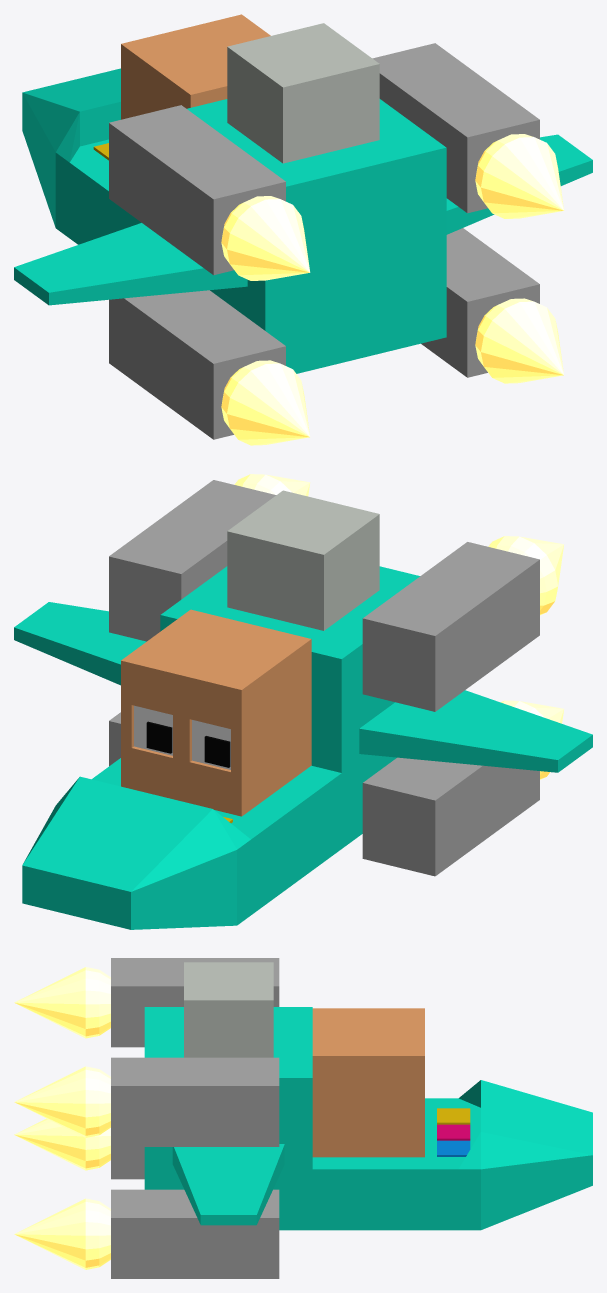
File: ship.glb
The picture shows the model from 3 angles, top to bottom: view 1: azimuth 30°, elevation 25°; view 2: azimuth 150°, elevation 25°; view 3: azimuth 270°, elevation 25°; orthographic projection. The views are drawn at different scales.
Visible parts, largest first — view 1: Cube, Cube.008, Cube.004, Cube.007, engine, engine.002, hero-head, Cube.006, ship-glow.002, ship-glow.001, ship-glow, ship.glow (+4 smaller); view 2: hero-head, Cube.008, Cube.004, Cube.003, Cube.007, Cube, engine, engine.002, ship, Cube.009, engine.001, ship.glow (+6 smaller); view 3: hero-head, engine, ship, Cube.006, Cube, Cube.004, Cube.003, engine.001, Cube.008, Cube.009, ship-glow, ship-glow.001 (+6 smaller).
Boxes of the visible parts, bbox=[...] form: Cube: bbox=[187, 99, 446, 373]; Cube.008: bbox=[109, 105, 285, 275]; Cube.004: bbox=[227, 23, 379, 163]; Cube.007: bbox=[109, 290, 285, 439]; engine: bbox=[372, 43, 539, 213]; engine.002: bbox=[14, 223, 247, 305]; hero-head: bbox=[121, 14, 270, 119]; Cube.006: bbox=[421, 228, 539, 377]; ship-glow.002: bbox=[221, 360, 310, 445]; ship-glow.001: bbox=[475, 298, 563, 383]; ship-glow: bbox=[475, 134, 564, 218]; ship.glow: bbox=[221, 196, 310, 280]; hero-head: bbox=[121, 609, 311, 816]; Cube.008: bbox=[362, 542, 539, 711]; Cube.004: bbox=[227, 490, 379, 630]; Cube.003: bbox=[22, 776, 250, 891]; Cube.007: bbox=[362, 757, 539, 876]; Cube: bbox=[160, 566, 419, 848]; engine: bbox=[109, 480, 276, 641]; engine.002: bbox=[359, 690, 592, 772]; ship: bbox=[92, 758, 341, 925]; Cube.009: bbox=[22, 850, 236, 929]; engine.001: bbox=[14, 602, 146, 685]; ship.glow: bbox=[488, 536, 563, 615]; hero-head: bbox=[312, 1008, 424, 1157]; engine: bbox=[111, 1057, 279, 1146]; ship: bbox=[312, 1098, 480, 1230]; Cube.006: bbox=[111, 1189, 279, 1278]; Cube: bbox=[144, 1007, 312, 1230]; Cube.004: bbox=[184, 962, 273, 1057]; Cube.003: bbox=[459, 1080, 592, 1169]; engine.001: bbox=[172, 1144, 284, 1225]; Cube.008: bbox=[111, 958, 279, 1047]; Cube.009: bbox=[481, 1155, 592, 1229]; ship-glow: bbox=[14, 1066, 110, 1137]; ship-glow.001: bbox=[14, 1198, 110, 1269].
Size of the model in its own units: 2.25 by 1.16 by 2.58.
